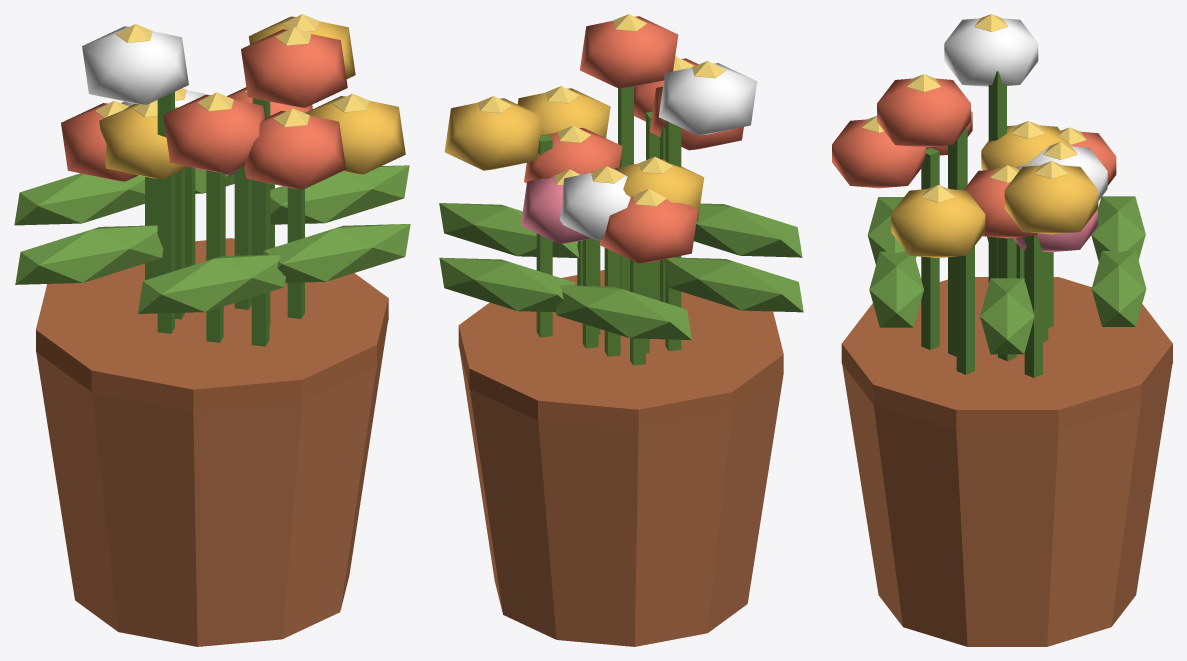
File: prop_flowers.glb
3 renders of one model, left to right at view 1: azimuth 30°, elevation 25°; view 2: azimuth 150°, elevation 25°; view 3: azimuth 270°, elevation 25°, orthographic. The views are drawn at different scales.
Parts seen in each view (by area): view 1: prop_flowers; view 2: prop_flowers; view 3: prop_flowers.
Boxes of the visible parts, bbox=[...] form: prop_flowers: bbox=[14, 14, 410, 646]; prop_flowers: bbox=[439, 14, 803, 646]; prop_flowers: bbox=[832, 14, 1172, 646].
Size of the model in its own units: 0.2277 by 0.3257 by 0.1853.
